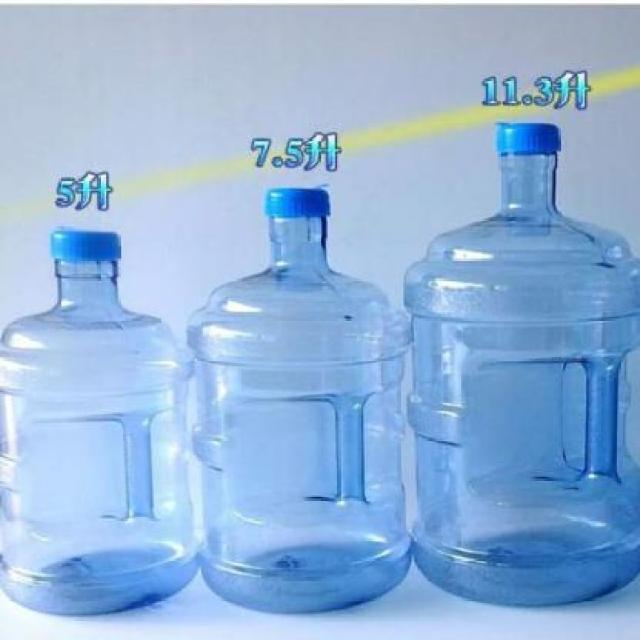coolerbottle: (400, 117, 640, 609), (183, 181, 412, 617), (0, 223, 198, 617)
